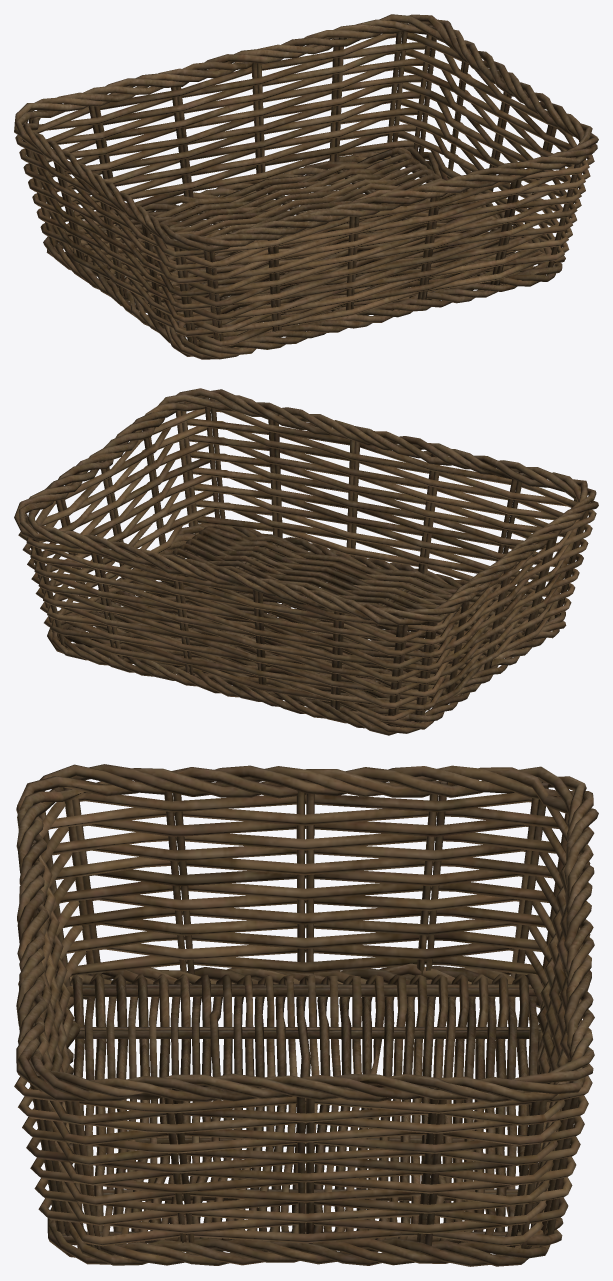
File: wicker_basket_01.glb
The picture shows the model from 3 angles, top to bottom: view 1: azimuth 30°, elevation 25°; view 2: azimuth 150°, elevation 25°; view 3: azimuth 270°, elevation 25°; orthographic projection. The views are drawn at different scales.
Visible parts, largest first — view 1: wicker_basket_01; view 2: wicker_basket_01; view 3: wicker_basket_01.
Part boxes in pixels (box(x1,y1,x2,y2)): wicker_basket_01: box(14, 14, 598, 359); wicker_basket_01: box(14, 388, 598, 735); wicker_basket_01: box(14, 764, 598, 1266).
Size of the model in its own units: 0.3832 by 0.1174 by 0.295.
1 material, 1 textured.
